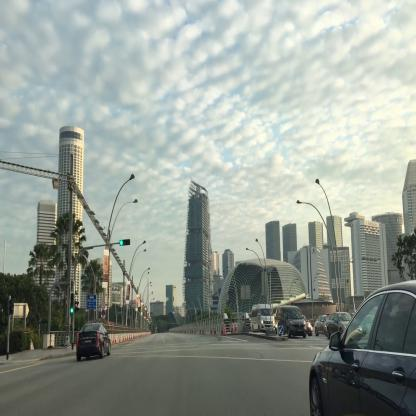green_traffic_light: (70, 293, 73, 313), (119, 240, 130, 245)
